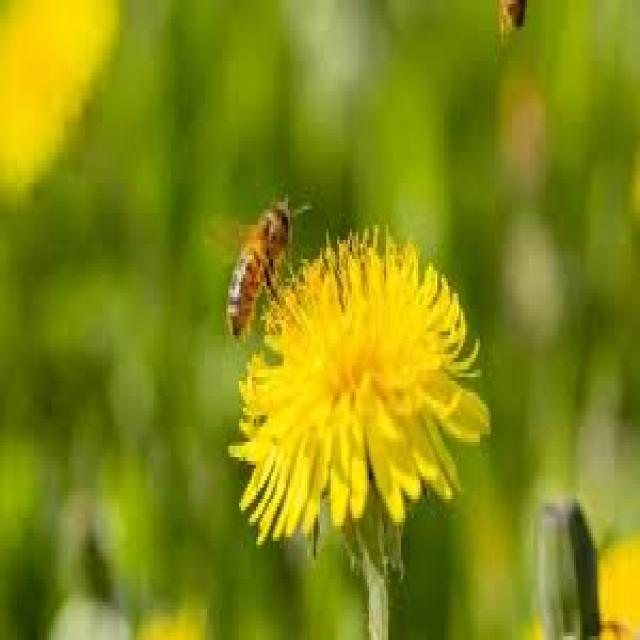Bees: (200, 192, 314, 342)
